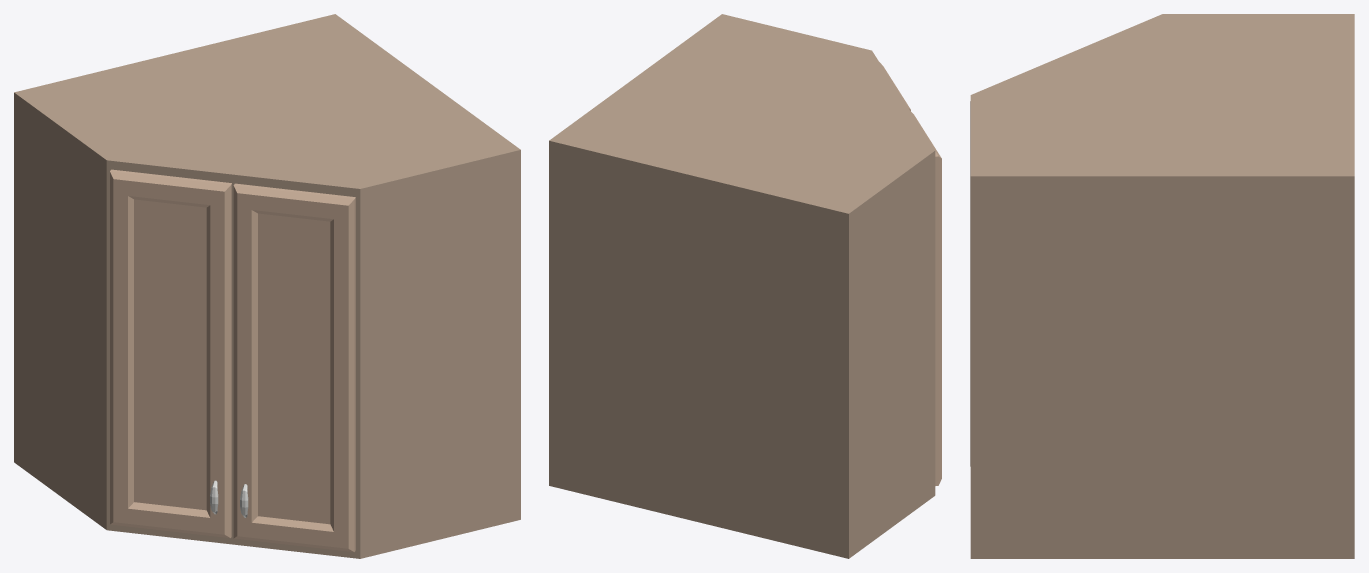
File: Structure_Kitchen_Cabinet_Wall_Corner.fbx
The picture shows the model from 3 angles, left to right: view 1: azimuth 30°, elevation 25°; view 2: azimuth 150°, elevation 25°; view 3: azimuth 270°, elevation 25°; orthographic projection. The views are drawn at different scales.
Parts seen in each view (by area): view 1: object1.089, object3.040, object2.051; view 2: object1.089, object2.051; view 3: object1.089.
Part boxes in pixels (x1,y1,x2,y2): object1.089: [14, 14, 520, 558]; object3.040: [233, 183, 355, 552]; object2.051: [110, 169, 231, 538]; object1.089: [549, 14, 935, 558]; object2.051: [910, 111, 941, 485]; object1.089: [970, 14, 1354, 558].
Bounding box in the file's own units: 100 × 110 × 100.
